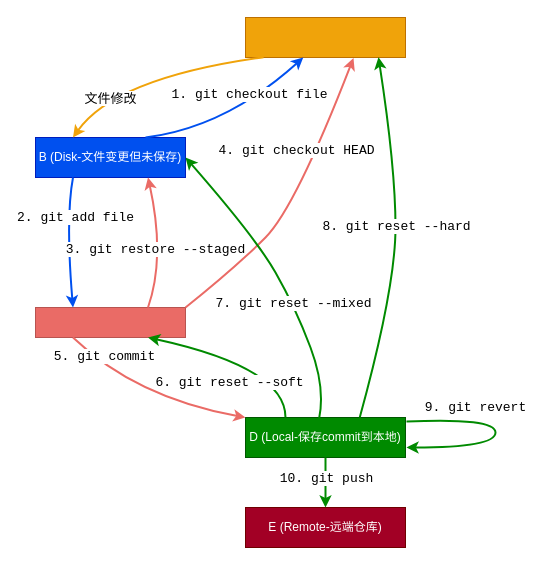
The diagram is 544 pixels wide and 565 high, and some of its shapes have lost their labels. Here are the shapes that lost their labels. From the top down, the centre of each, then its label:
(325,37): A (Disk-未变更状态)
(110,322): C (Disk-文件变更到缓存区)
